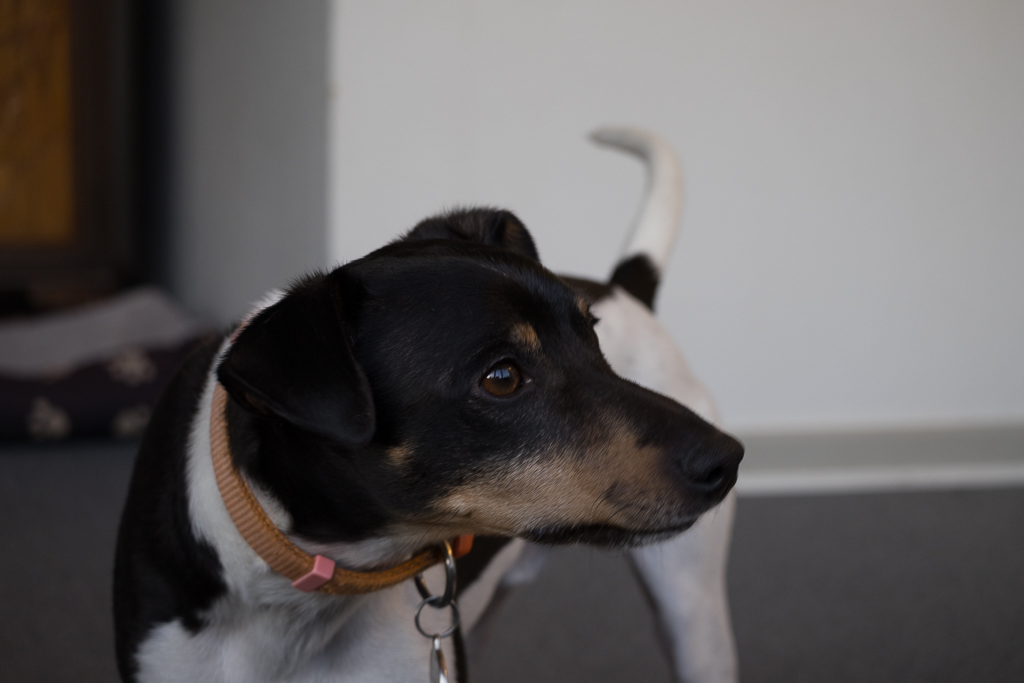Dog: (95, 111, 756, 683)
